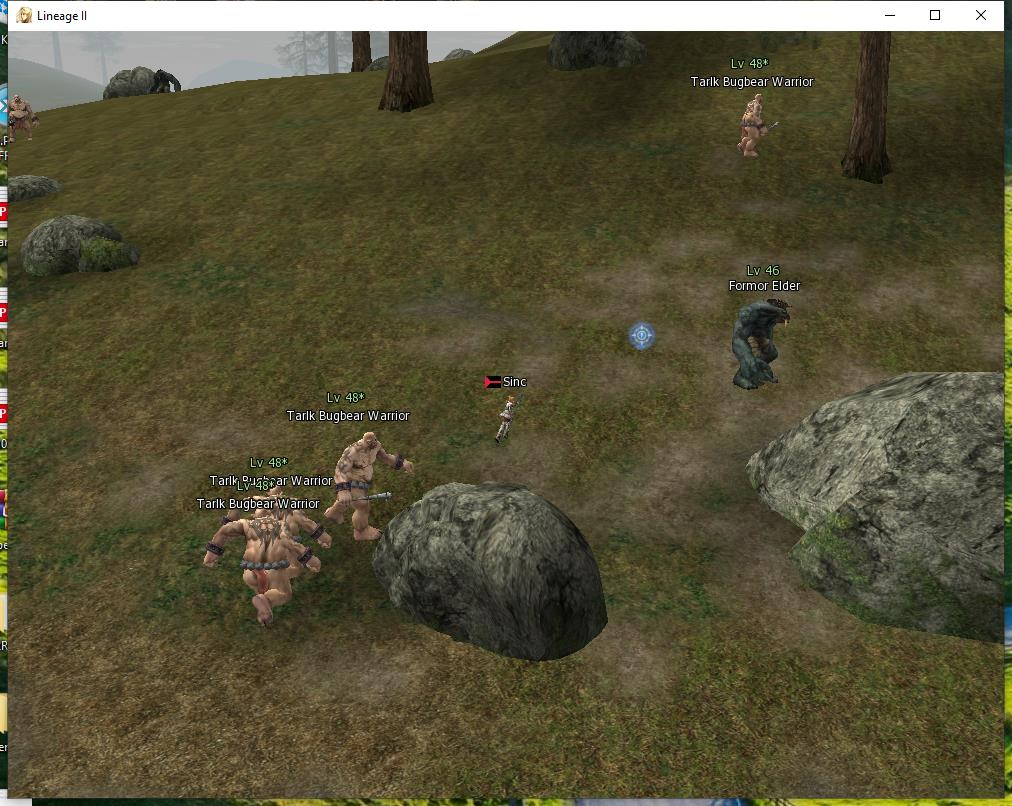monster: (195, 385, 399, 625), (682, 39, 820, 169), (716, 256, 804, 406)
